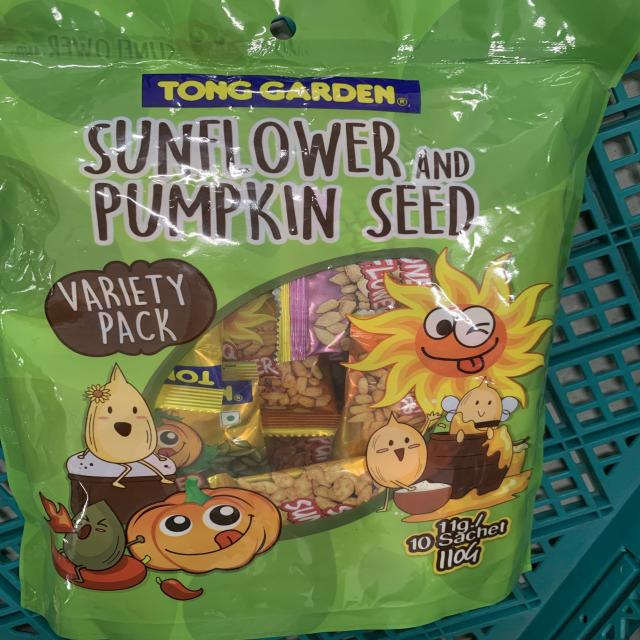object_name: (9, 3, 553, 622)
